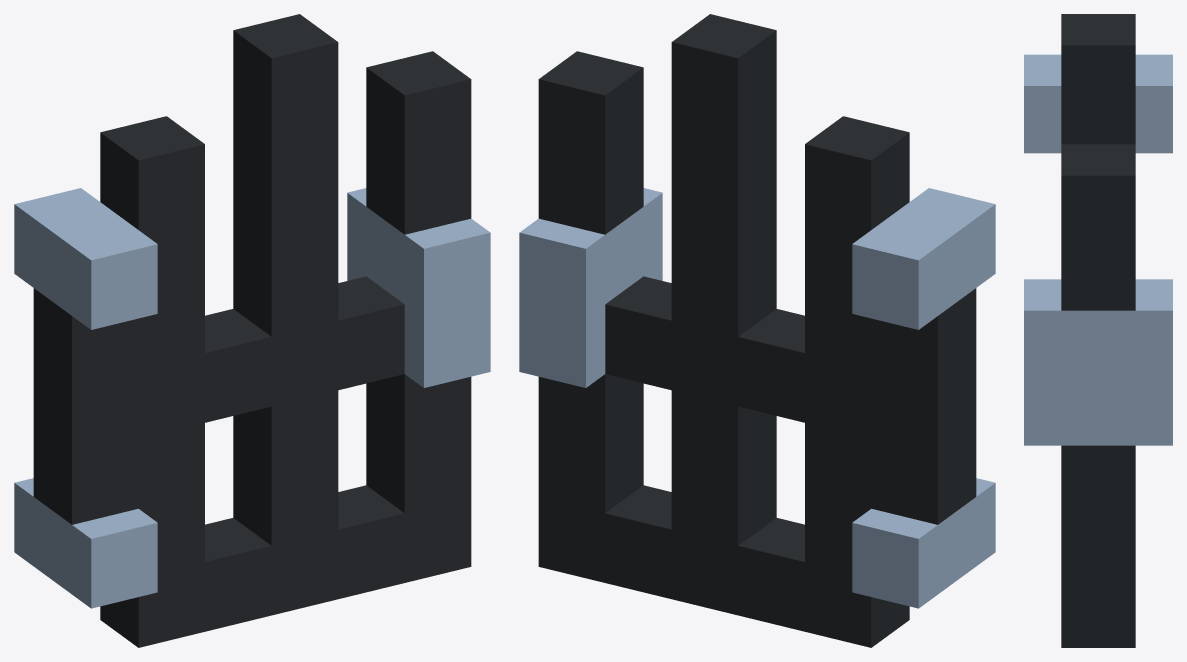
The model's file is iron-gate.glb.
The picture shows the model from 3 angles, left to right: view 1: azimuth 30°, elevation 25°; view 2: azimuth 150°, elevation 25°; view 3: azimuth 270°, elevation 25°; orthographic projection. The views are drawn at different scales.
Parts seen in each view (by area): view 1: generated(Clone); view 2: generated(Clone); view 3: generated(Clone).
Part boxes in pixels (<box>): generated(Clone): <box>14,14,490,647</box>; generated(Clone): <box>519,14,995,647</box>; generated(Clone): <box>1024,14,1172,647</box>.
Bounding box in the file's own units: 6 × 8 × 2.
1 material, 1 textured.
